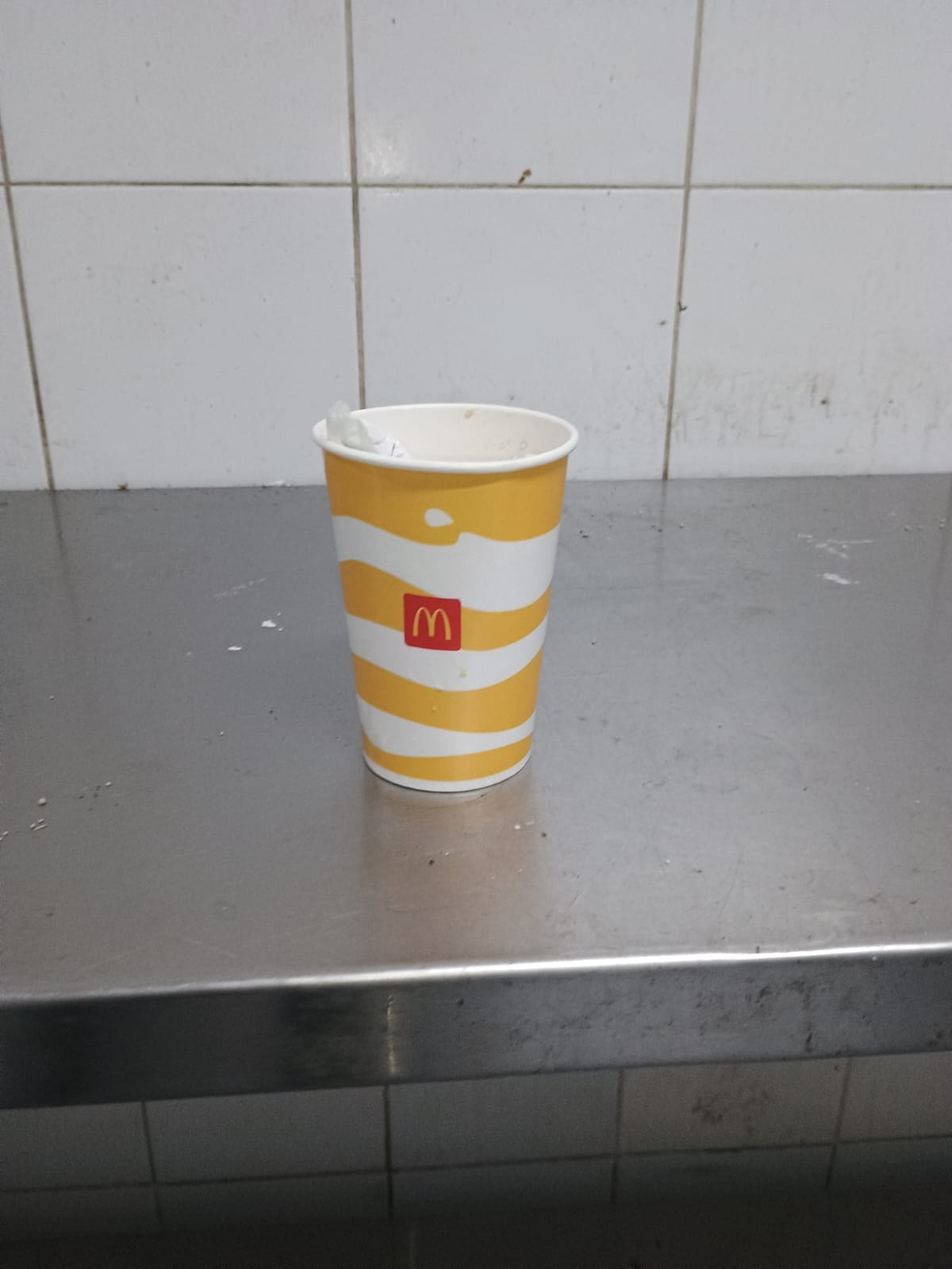Carton: (312, 404, 577, 796)
